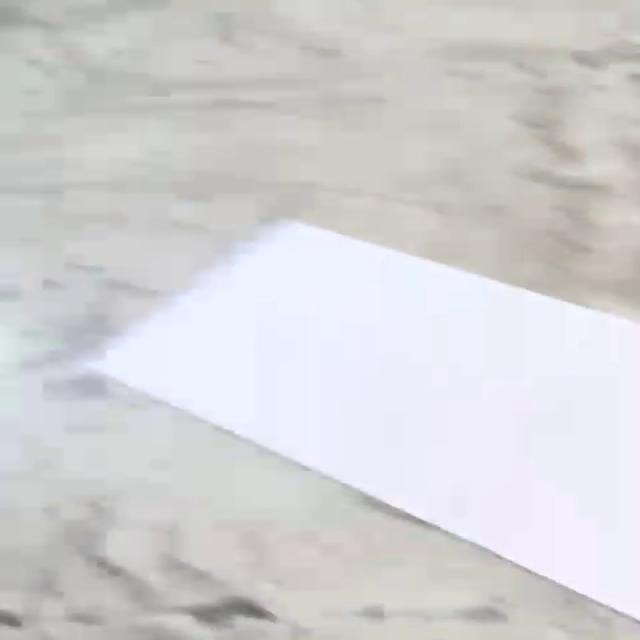road: (100, 220, 640, 624)
